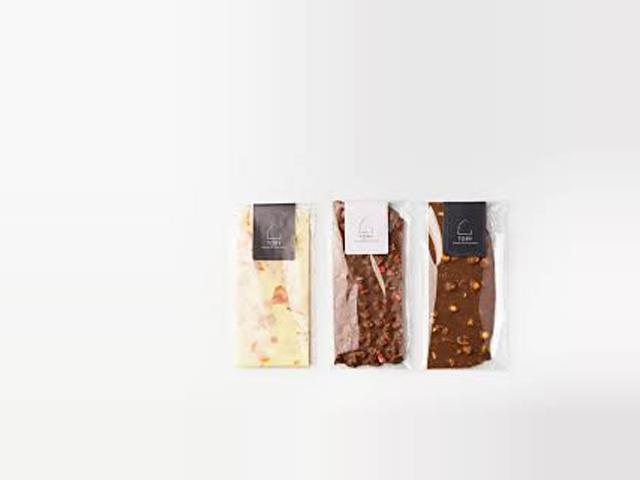chocolate: (429, 200, 508, 376)
